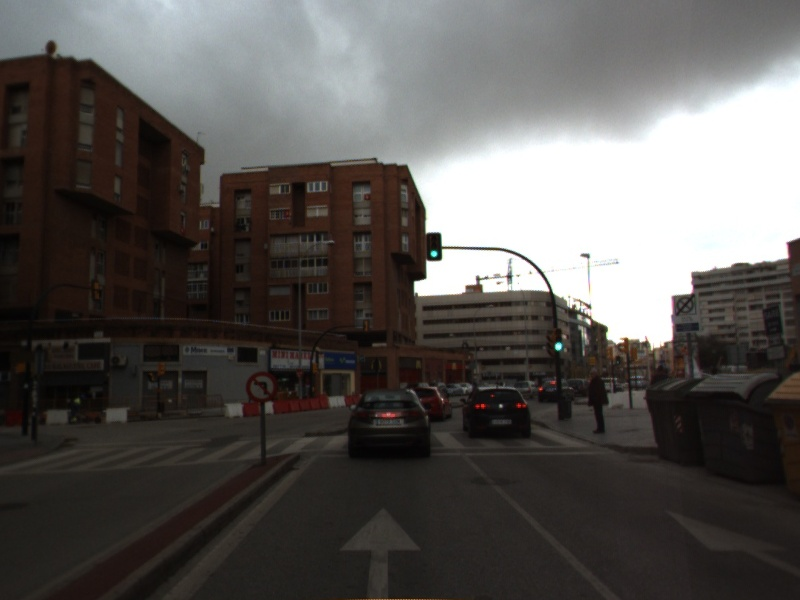STRAIGHT: (661, 506, 800, 580), (335, 503, 426, 600)
